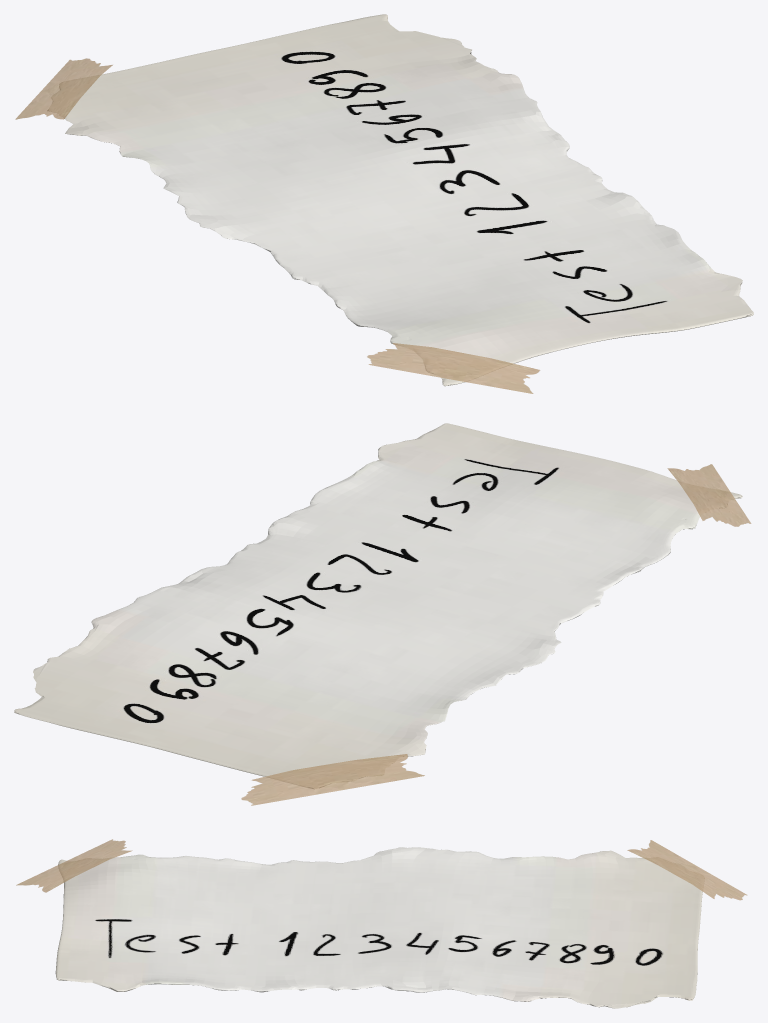
3 views of the same model, one above another, from view 1: azimuth 30°, elevation 25°; view 2: azimuth 150°, elevation 25°; view 3: azimuth 270°, elevation 25° (orthographic). The views are drawn at different scales.
Parts seen in each view (by area): view 1: node0, node1, node2; view 2: node0, node2, node1; view 3: node0, node2, node1.
Boxes of the visible parts, x1,y1,x2,y2 form: node0: (47, 14, 753, 386); node1: (367, 343, 539, 393); node2: (15, 58, 112, 119); node0: (14, 423, 742, 788); node2: (241, 754, 424, 805); node1: (667, 464, 751, 526); node0: (55, 847, 704, 1008); node2: (627, 840, 747, 900); node1: (16, 839, 132, 892).
Size of the model in its own units: 16.25 by 0.8707 by 31.32.
2 materials, 2 textured.
